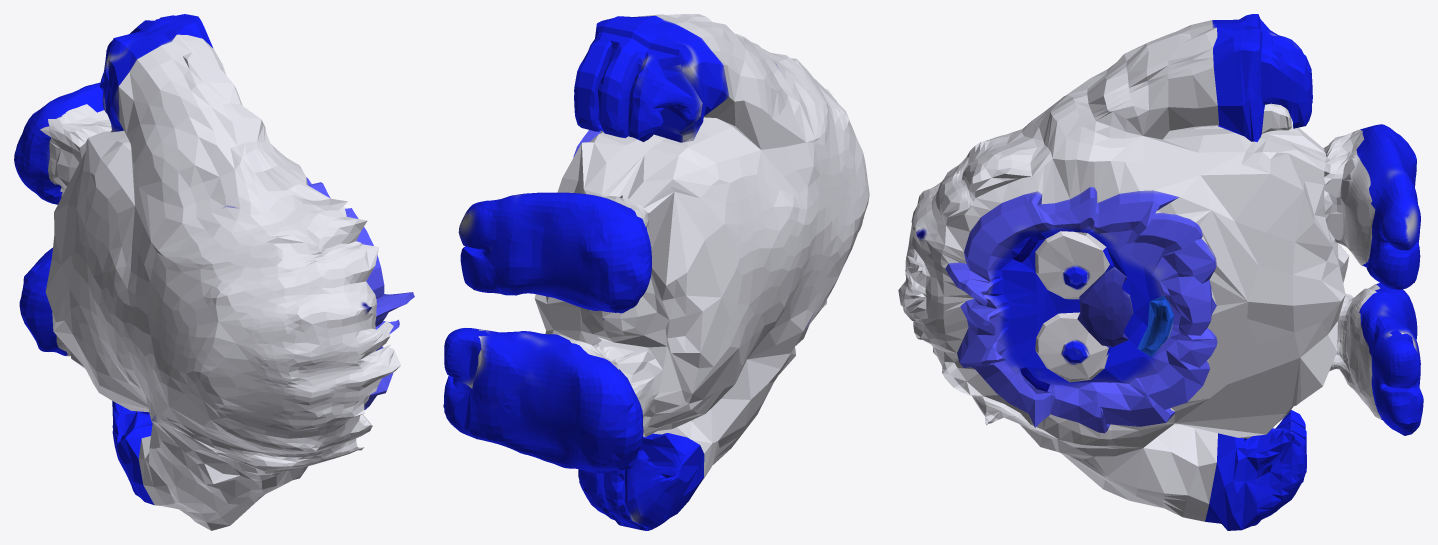
Rendered from codi.glb.
3 views of the same model, side by side, from view 1: azimuth 30°, elevation 25°; view 2: azimuth 150°, elevation 25°; view 3: azimuth 270°, elevation 25° (orthographic). The views are drawn at different scales.
Visible parts, largest first — view 1: codi; view 2: codi; view 3: codi.
Part boxes in pixels (x1,y1,x2,y2): codi: (14,14,414,530); codi: (443,14,869,530); codi: (898,14,1423,530).
Size of the model in its own units: 1.64 by 3.33 by 3.24.
Materials: 1 (1 with a texture image).
